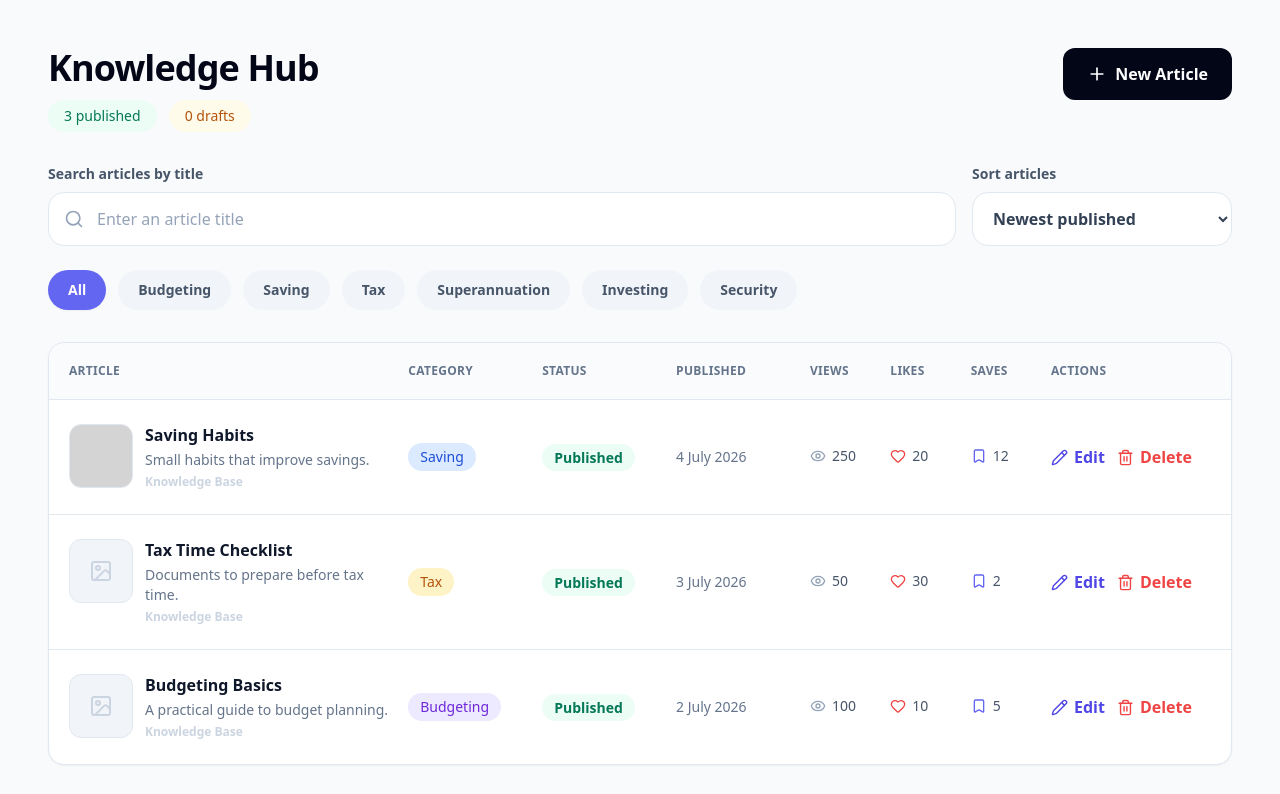
Test: shows an error if article details cannot be loaded for editing
Expected: the heading "Saving Habits" is shown, [145,424,254,446]
Click the button "Edit" next to "12".
click(1078, 457)  # box [1051,445,1105,469]
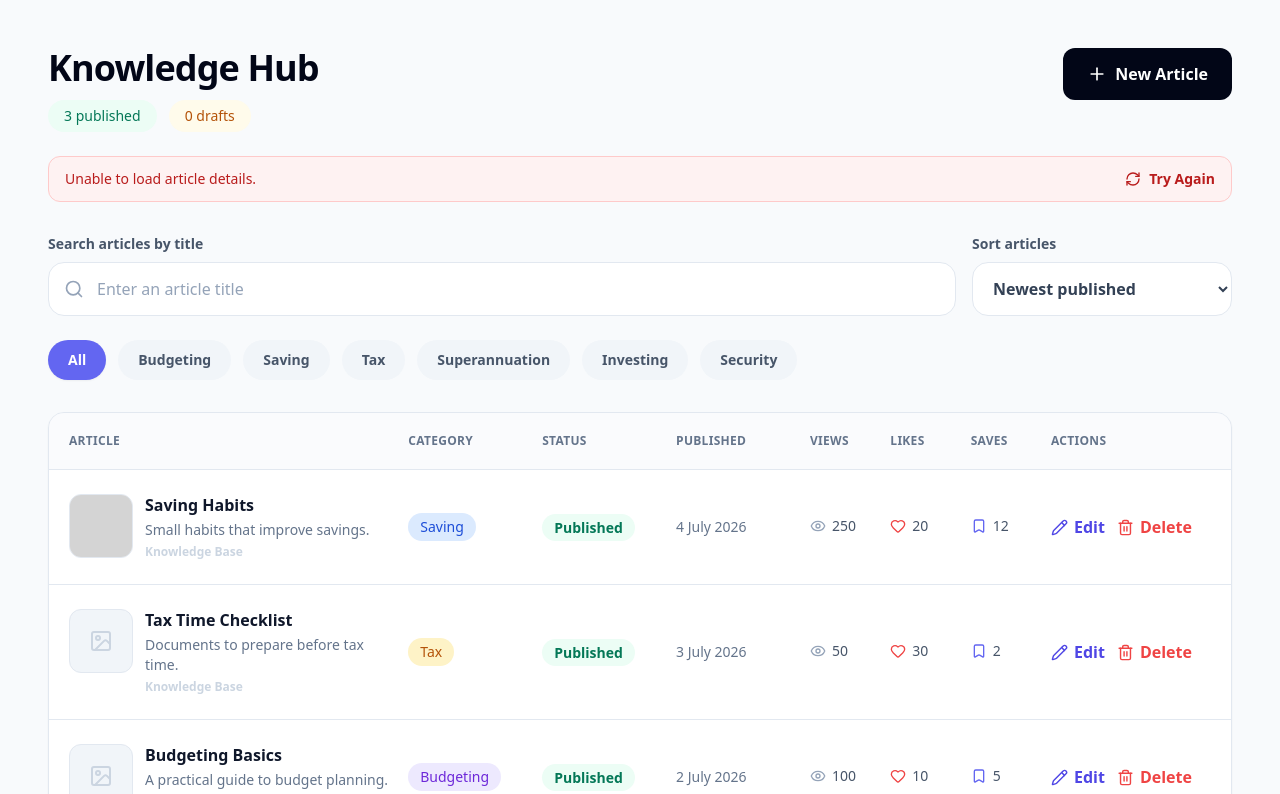
Now the message shows "Unable to load article details.", box [65,169,256,188]
